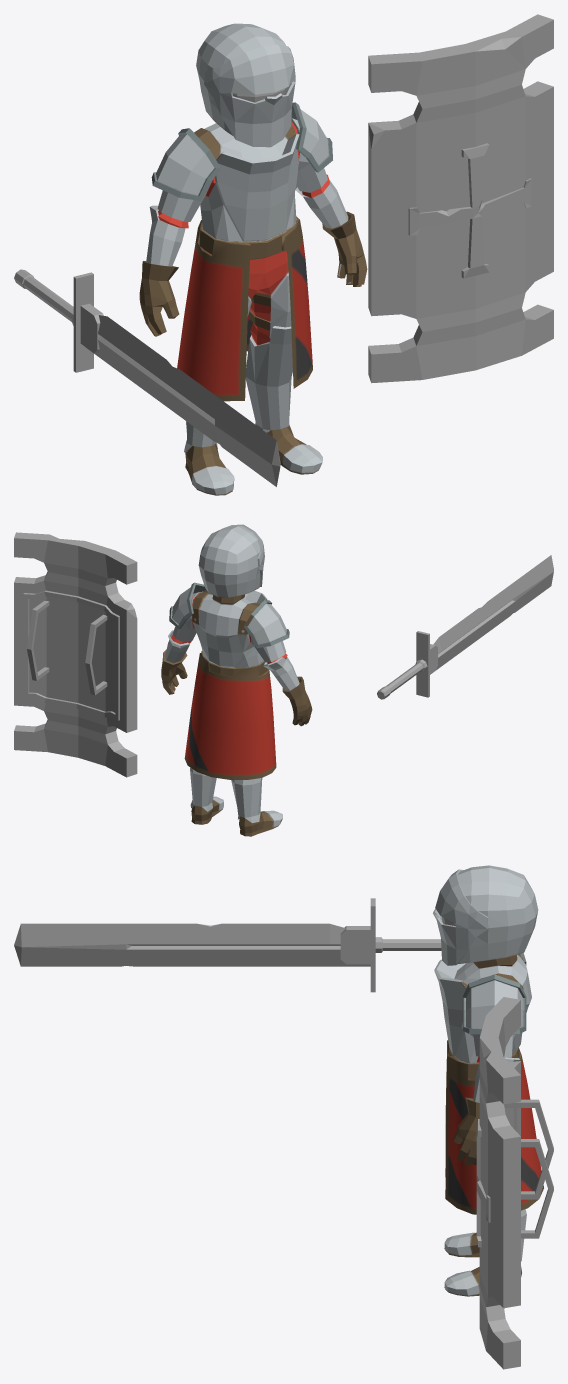
The model's file is Knight.fbx.
3 views of the same model, one above another, from view 1: azimuth 30°, elevation 25°; view 2: azimuth 150°, elevation 25°; view 3: azimuth 270°, elevation 25° (orthographic). The views are drawn at different scales.
Visible parts, largest first — view 1: Knight_Sheild, Knight_Armor, Knight_Cape, Knight_Sword, Knight_Helmet; view 2: Knight_Sheild, Knight_Armor, Knight_Cape, Knight_Sword, Knight_Helmet; view 3: Knight_Sword, Knight_Sheild, Knight_Armor, Knight_Helmet, Knight_Cape.
Boxes of the visible parts, box(x1,y1,x2,y2) form: Knight_Sheild: box(368, 14, 553, 383); Knight_Armor: box(139, 102, 367, 495); Knight_Cape: box(177, 219, 312, 401); Knight_Sword: box(14, 269, 280, 486); Knight_Helmet: box(196, 23, 295, 147); Knight_Sheild: box(14, 532, 137, 777); Knight_Armor: box(161, 582, 312, 836); Knight_Cape: box(184, 653, 276, 779); Knight_Sword: box(377, 555, 553, 699); Knight_Helmet: box(198, 524, 264, 597); Knight_Sword: box(14, 898, 441, 992); Knight_Sheild: box(476, 997, 553, 1369); Knight_Armor: box(434, 953, 531, 1296); Knight_Helmet: box(433, 865, 538, 965); Knight_Cape: box(445, 1040, 543, 1214).
Bounding box in the file's own units: 245 × 187 × 227.
